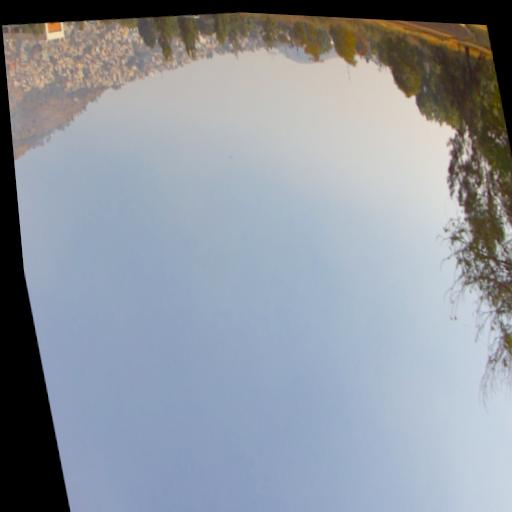drones: (228, 154, 234, 160)
